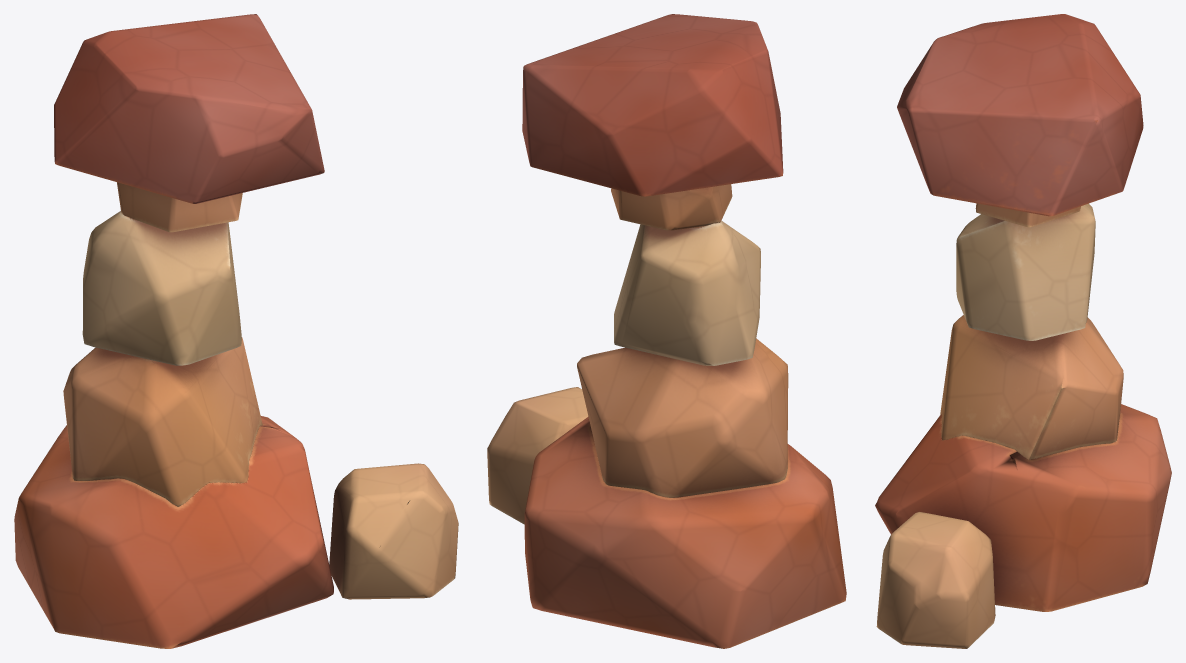
The model's file is Desert_RocherGres_A.fbx.
The picture shows the model from 3 angles, left to right: view 1: azimuth 30°, elevation 25°; view 2: azimuth 150°, elevation 25°; view 3: azimuth 270°, elevation 25°; orthographic projection. The views are drawn at different scales.
Parts seen in each view (by area): view 1: Desert_RocherGres_A; view 2: Desert_RocherGres_A; view 3: Desert_RocherGres_A.
Boxes of the visible parts, bbox=[...] form: Desert_RocherGres_A: bbox=[14, 14, 458, 648]; Desert_RocherGres_A: bbox=[487, 14, 846, 648]; Desert_RocherGres_A: bbox=[875, 14, 1171, 648].
Bounding box in the file's own units: 791 × 1101 × 584.
Materials: 1 (1 with a texture image).
